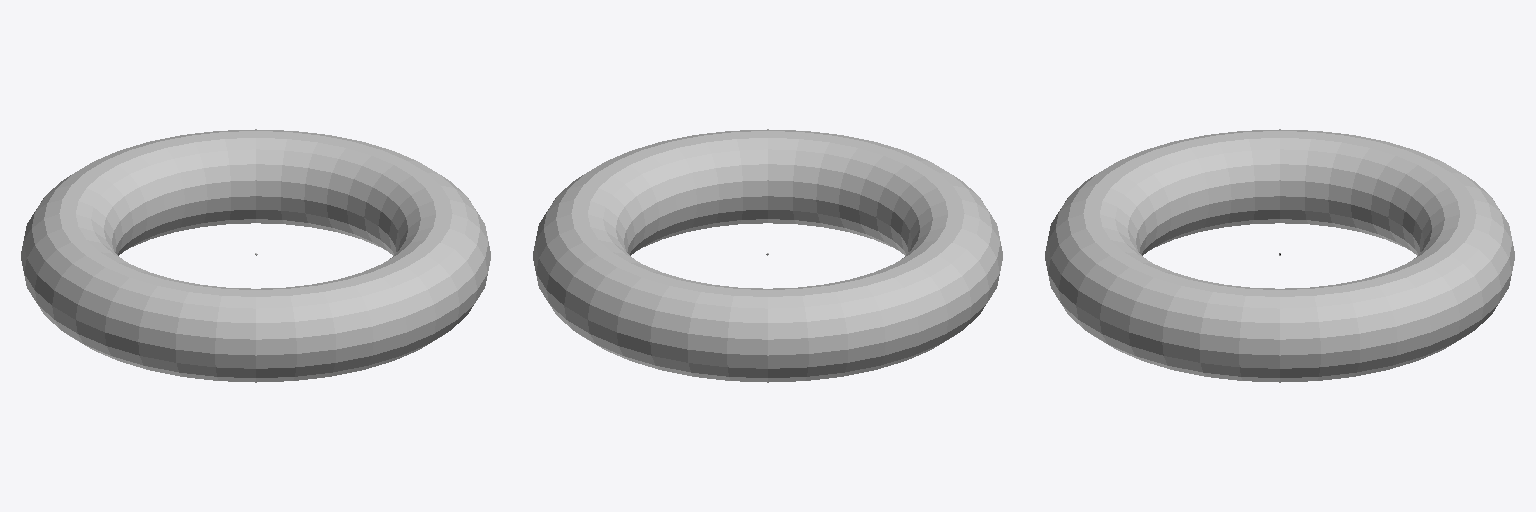
3 views of the same model, side by side, from view 1: azimuth 30°, elevation 25°; view 2: azimuth 150°, elevation 25°; view 3: azimuth 270°, elevation 25° (orthographic).
Parts seen in each view (by area): view 1: Torus; view 2: Torus; view 3: Torus.
Boxes of the visible parts, <box> form: Torus: <box>21,129,490,382</box>; Torus: <box>533,129,1002,382</box>; Torus: <box>1045,129,1514,382</box>.
Size of the model in its own units: 500 by 98.48 by 500.
1 materials, 1 textured.